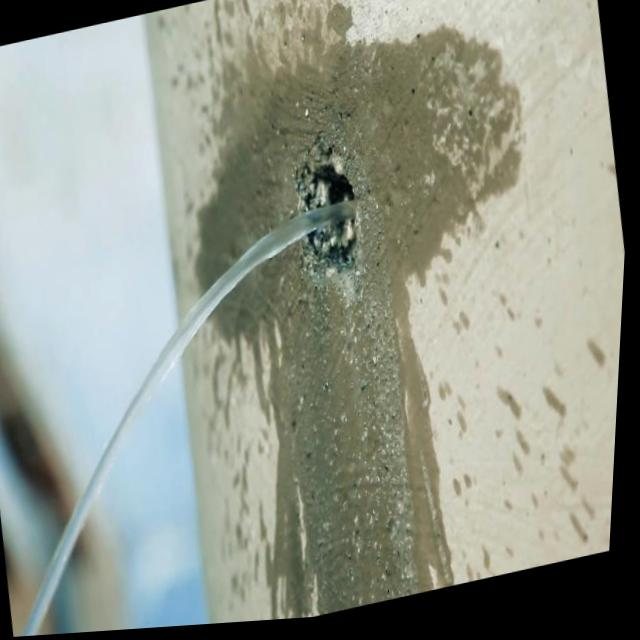leak: (7, 177, 374, 637)
